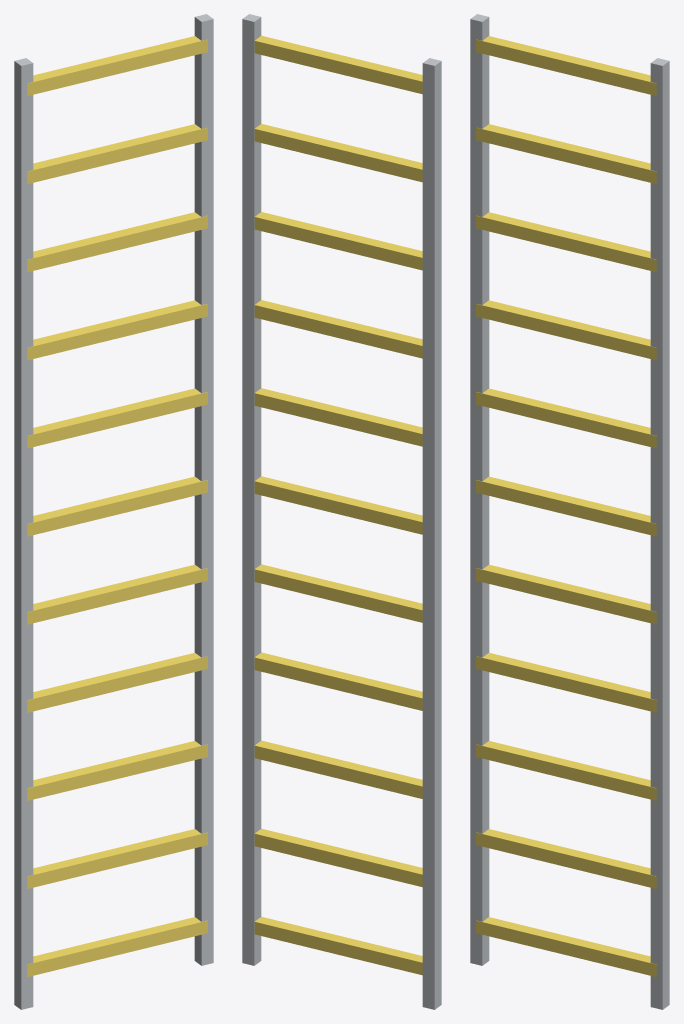
The model's file is mech-hangar-and-battle-frames-service-ladder-3774e8d8__26942.glb.
3 renders of one model, left to right at view 1: azimuth 30°, elevation 25°; view 2: azimuth 150°, elevation 25°; view 3: azimuth 330°, elevation 25°, orthographic.
Parts seen in each view (by area): view 1: service-ladder; view 2: service-ladder; view 3: service-ladder.
Boxes of the visible parts, x1,y1,x2,y2 form: service-ladder: [14, 14, 213, 1009]; service-ladder: [242, 14, 441, 1009]; service-ladder: [470, 14, 669, 1009].
Bounding box in the file's own units: 0.6398 × 3 × 0.0411.
